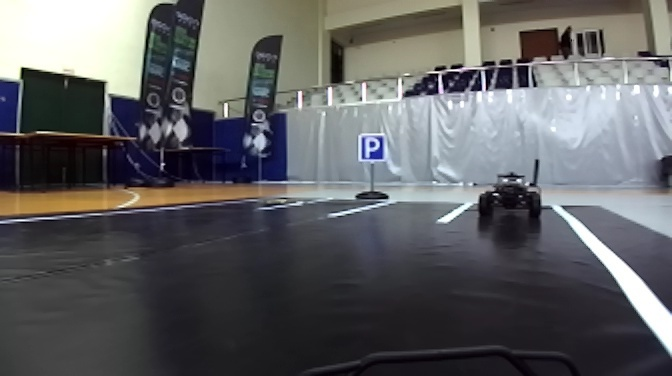park: (359, 132, 386, 163)
